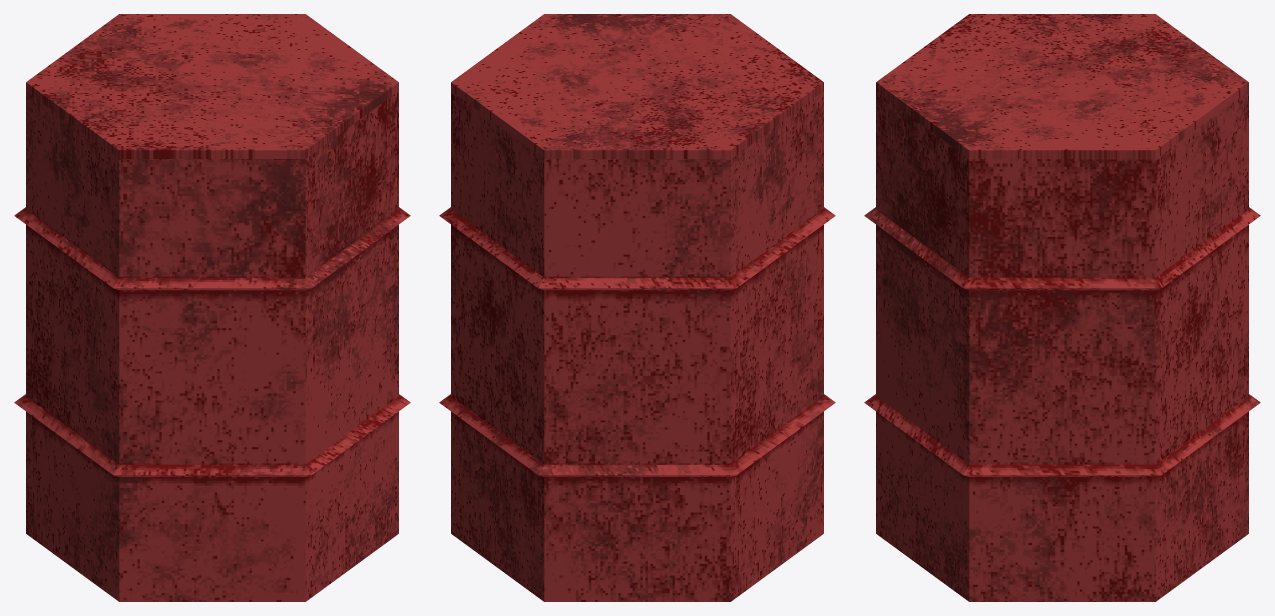
The model's file is box_openable.fbx.
3 renders of one model, left to right at view 1: azimuth 30°, elevation 25°; view 2: azimuth 150°, elevation 25°; view 3: azimuth 270°, elevation 25°, orthographic.
Visible parts, largest first — view 1: Cylinder, Cylinder.001; view 2: Cylinder, Cylinder.001; view 3: Cylinder, Cylinder.001.
Part boxes in pixels (x1,y1,x2,y2): Cylinder: [14, 91, 410, 601]; Cylinder.001: [26, 14, 398, 159]; Cylinder: [439, 91, 835, 601]; Cylinder.001: [451, 14, 823, 159]; Cylinder: [864, 91, 1260, 601]; Cylinder.001: [876, 14, 1248, 159].
Bounding box in the file's own units: 133 × 192 × 153.
